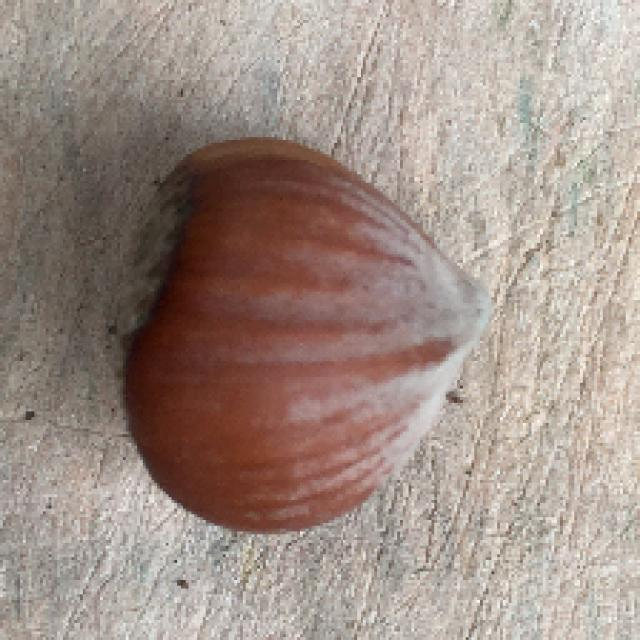qualityHazelnut: (109, 133, 490, 537)
